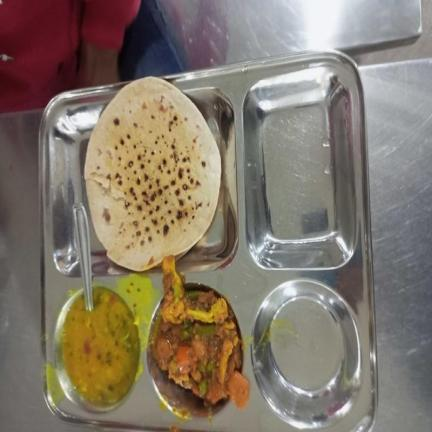Chana Dal: (62, 289, 140, 402)
Mix Veg: (152, 256, 251, 410)
Plate: (38, 50, 379, 431)
Roti: (83, 76, 222, 271)
